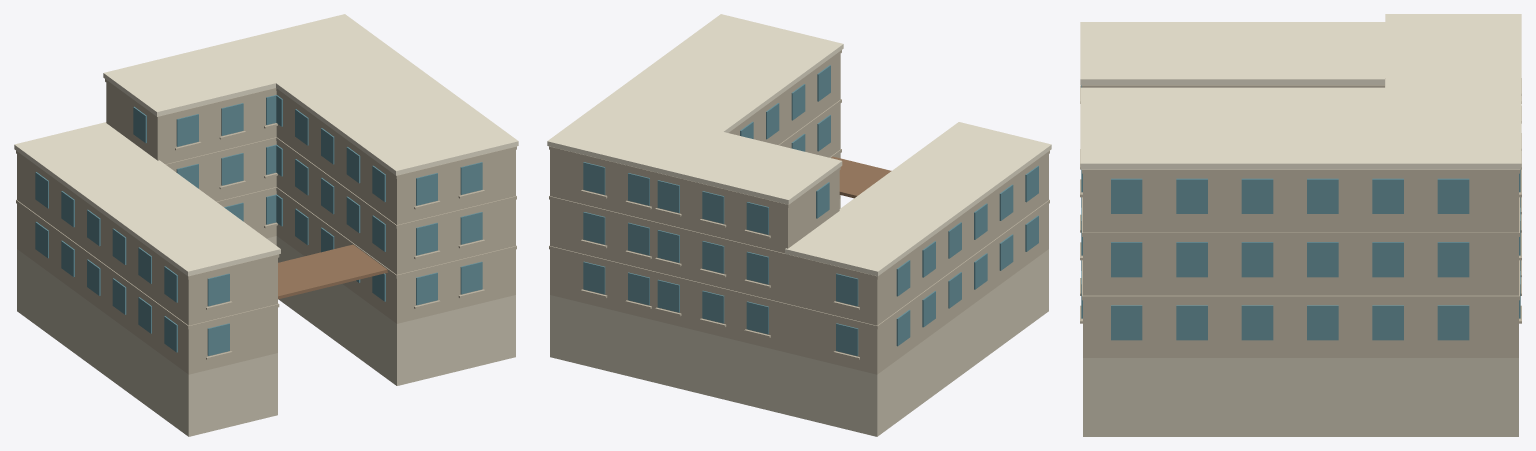
The model's file is courtyard-block-2.glb.
3 views of the same model, side by side, from view 1: azimuth 30°, elevation 25°; view 2: azimuth 150°, elevation 25°; view 3: azimuth 270°, elevation 25° (orthographic). The views are drawn at different scales.
Bounding box in the file's own units: 22.25 × 13.9 × 20.28.
